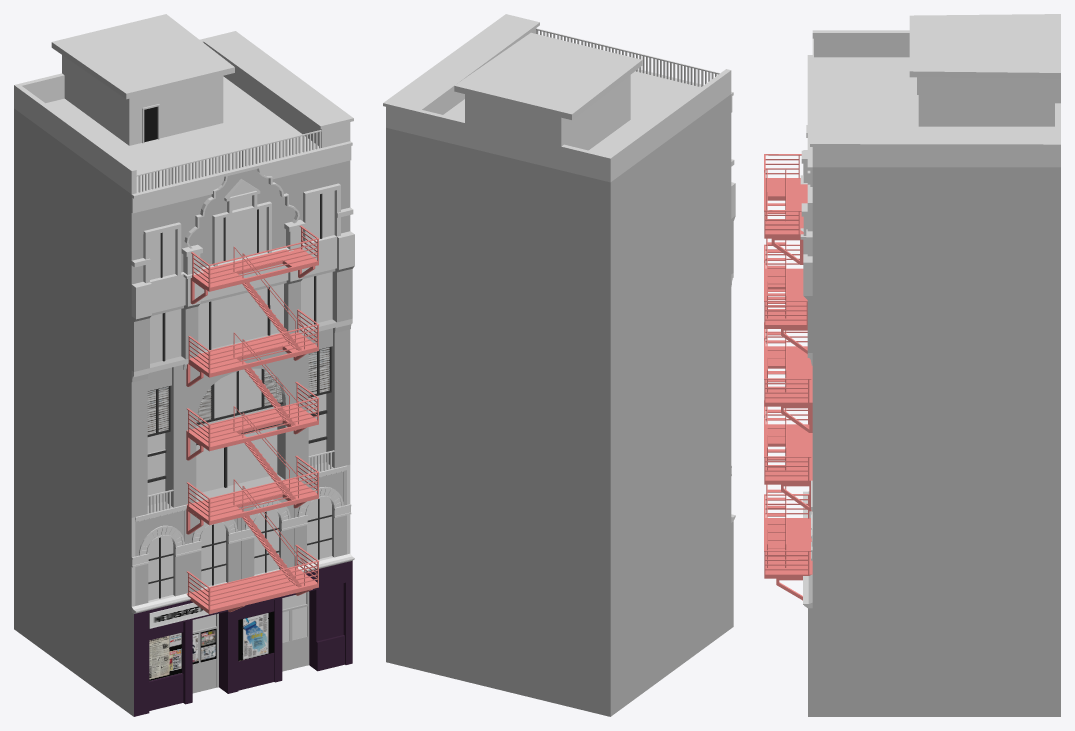
Rendered from mapping3.fbx.
3 views of the same model, side by side, from view 1: azimuth 30°, elevation 25°; view 2: azimuth 150°, elevation 25°; view 3: azimuth 270°, elevation 25° (orthographic). The views are drawn at different scales.
Parts seen in each view (by area): view 1: Plane.040, Plane.012, Plane.006, Plane.001, Plane.005, Plane.008, Plane.003, Plane.004, Plane.034, Plane.017, Plane.024, Plane.016 (+11 smaller); view 2: Plane.011, Plane.040, Plane.012; view 3: Plane.011, Plane.012, Plane.034, Plane.017, Plane.024, Plane.026, Plane.016, Plane.006, Plane.032, Plane.005, Plane.030, Plane.023 (+7 smaller).
Boxes of the visible parts, bbox=[...] form: Plane.040: bbox=[14, 108, 131, 714]; Plane.012: bbox=[14, 14, 353, 194]; Plane.006: bbox=[131, 141, 353, 285]; Plane.001: bbox=[131, 561, 352, 716]; Plane.005: bbox=[131, 233, 354, 382]; Plane.008: bbox=[135, 465, 347, 605]; Plane.003: bbox=[131, 390, 350, 517]; Plane.004: bbox=[131, 328, 350, 443]; Plane.034: bbox=[187, 567, 318, 614]; Plane.017: bbox=[186, 478, 318, 525]; Plane.024: bbox=[186, 404, 318, 451]; Plane.016: bbox=[188, 332, 318, 377]; Plane.011: bbox=[386, 127, 610, 716]; Plane.040: bbox=[610, 94, 731, 716]; Plane.012: bbox=[383, 14, 731, 182]; Plane.011: bbox=[812, 167, 1060, 716]; Plane.012: bbox=[810, 14, 1060, 167]; Plane.034: bbox=[764, 518, 812, 578]; Plane.017: bbox=[764, 424, 812, 484]; Plane.024: bbox=[764, 346, 812, 406]; Plane.026: bbox=[764, 178, 807, 238]; Plane.016: bbox=[764, 268, 807, 328]; Plane.006: bbox=[801, 55, 812, 262]; Plane.032: bbox=[764, 494, 810, 574]; Plane.005: bbox=[800, 150, 812, 365]; Plane.030: bbox=[764, 154, 801, 234]; Plane.023: bbox=[764, 244, 807, 324].
Bounding box in the file's own units: 915 × 2280 × 1006.
